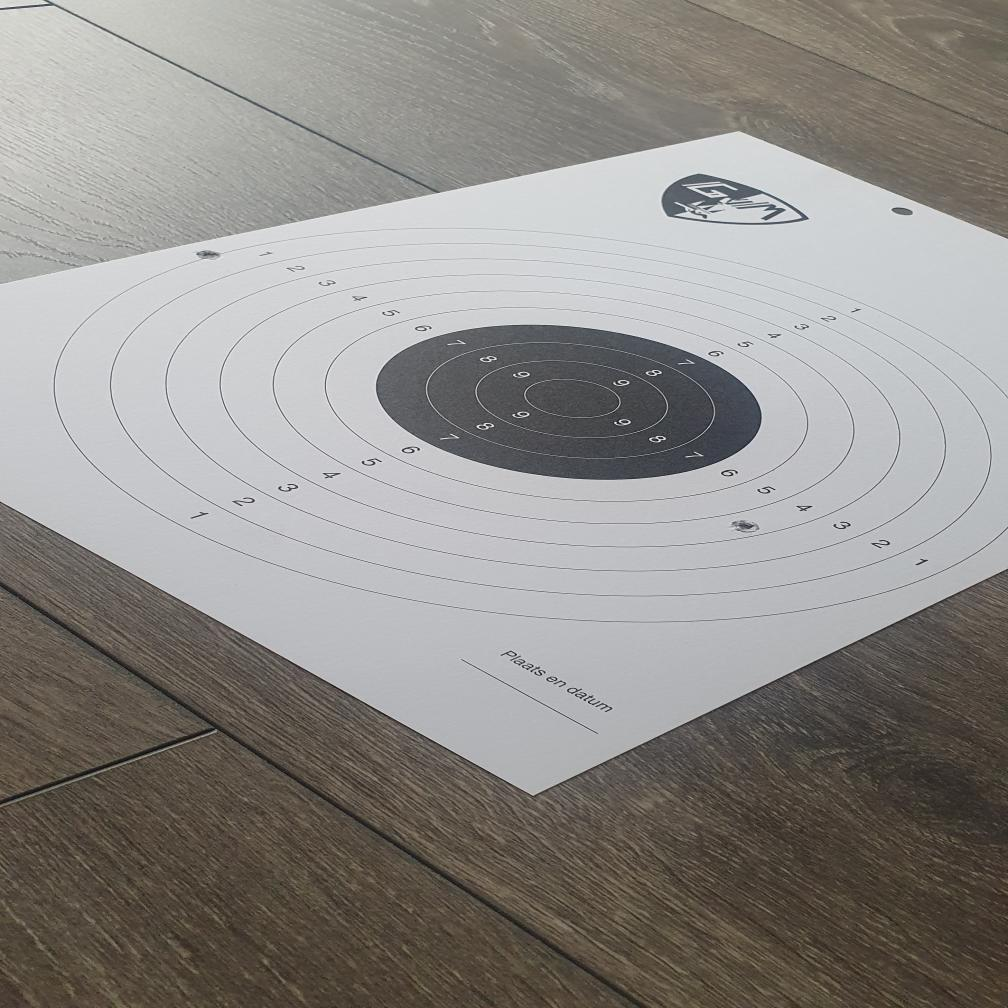1: (193, 249, 225, 261)
4: (727, 518, 760, 533)
Target: (46, 223, 1008, 625)
black_contour: (374, 322, 762, 480)
